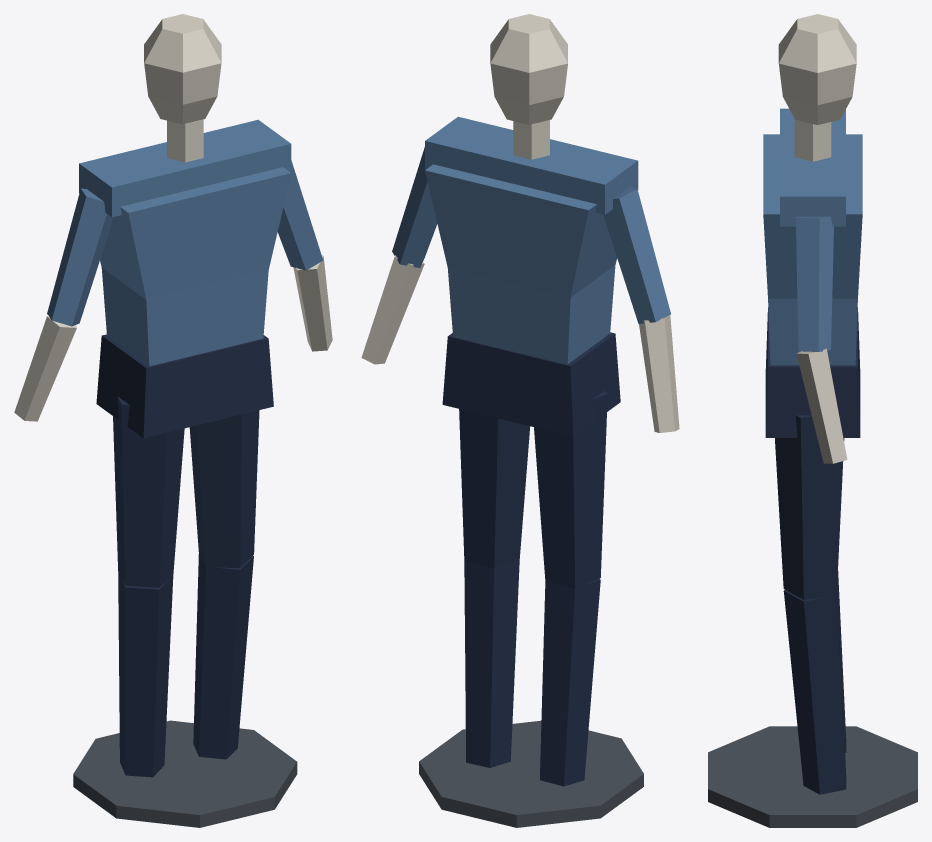
File: mannequin.glb
3 renders of one model, left to right at view 1: azimuth 30°, elevation 25°; view 2: azimuth 150°, elevation 25°; view 3: azimuth 270°, elevation 25°, orthographic.
Parts seen in each view (by area): view 1: Body; view 2: Body; view 3: Body.
Boxes of the visible parts, x1=… form: Body: x1=14, y1=14, x2=332, y2=827; Body: x1=361, y1=14, x2=679, y2=827; Body: x1=708, y1=14, x2=917, y2=827.
Bounding box in the file's own units: 0.7714 × 1.77 × 0.4435.
